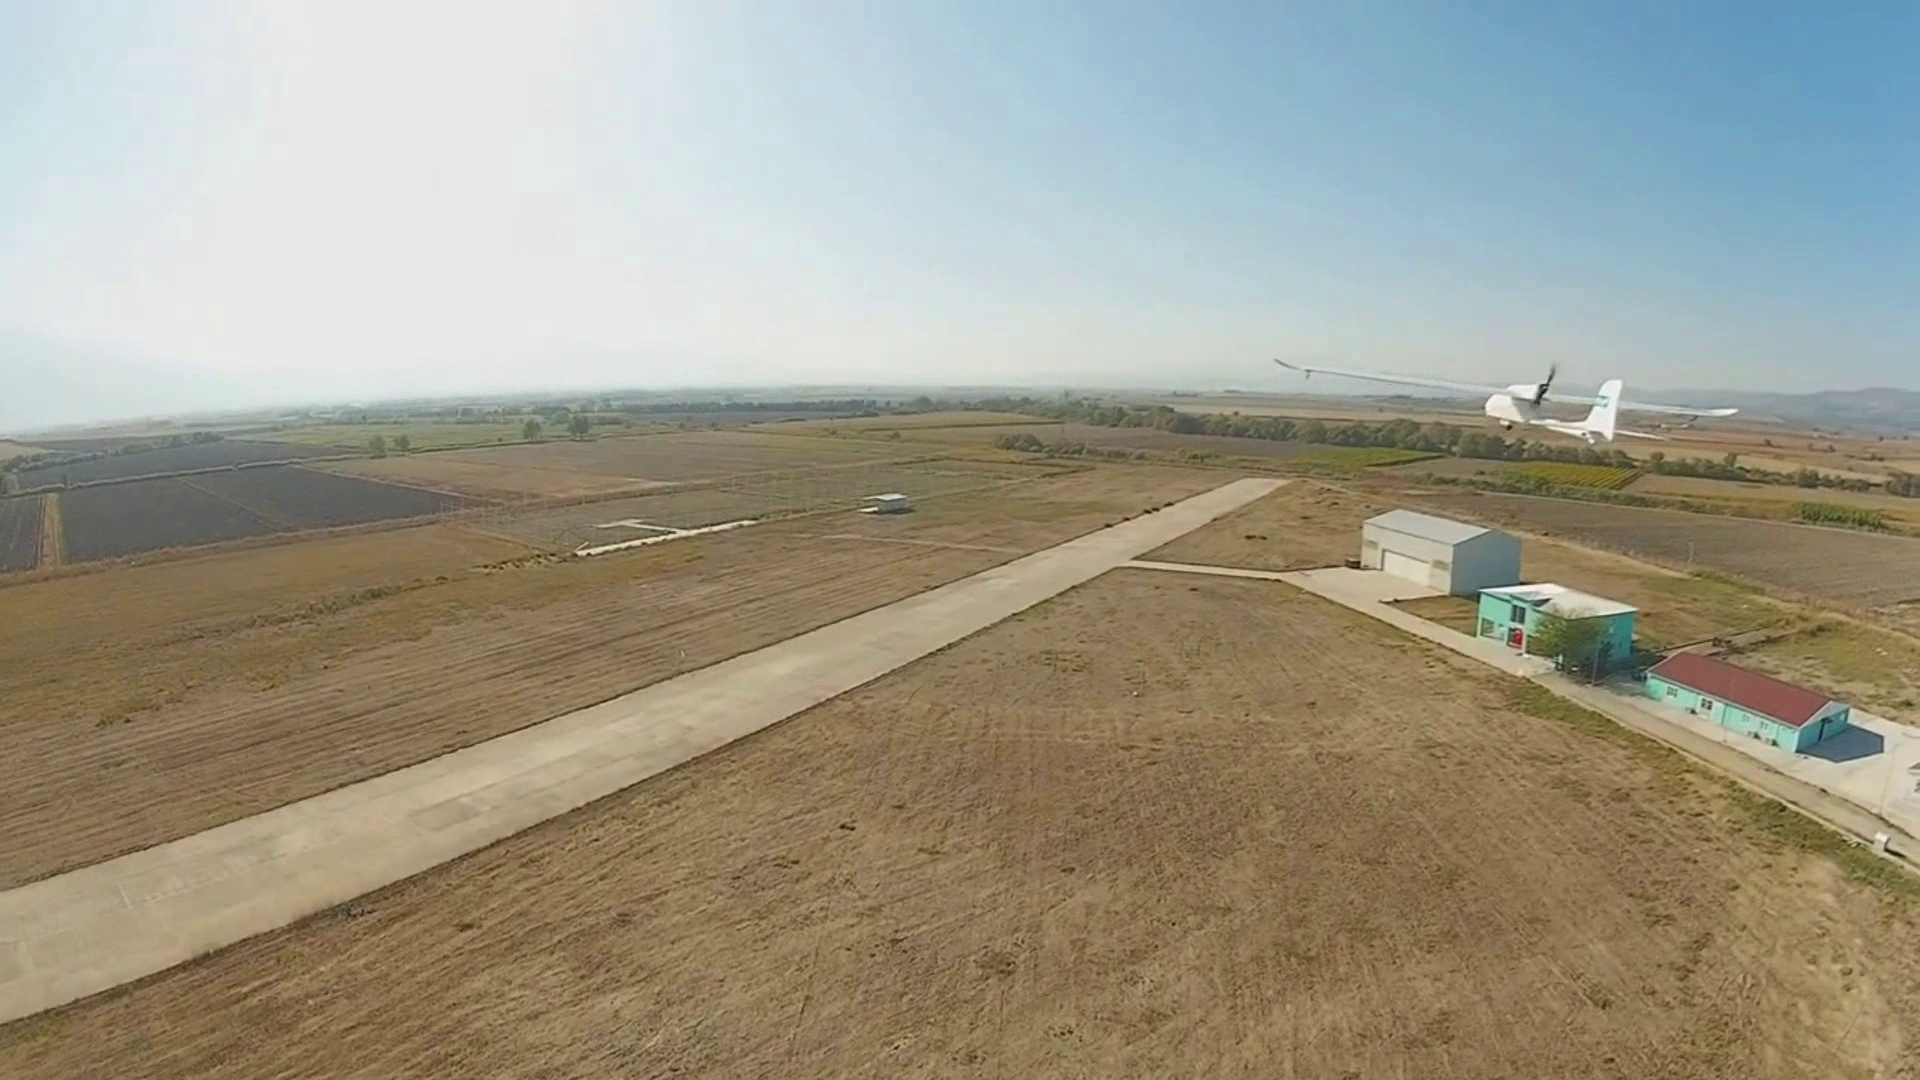airplane: (1270, 349, 1631, 444)
